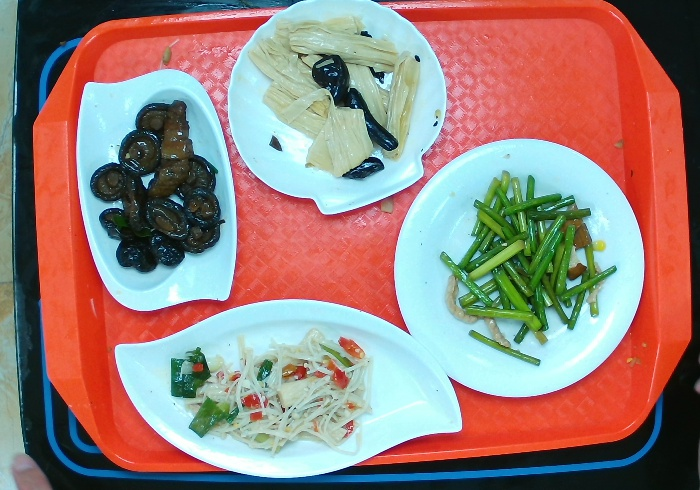RJxy-Bei_Ke_Wan: (226, 1, 452, 222)
RJxy-Jian_Jiao_Fang_Die: (73, 65, 241, 317)
RJxy-Jian_Jiao_Pan: (111, 297, 472, 487)
RJxy-Yuan_Pan: (389, 132, 653, 400)
